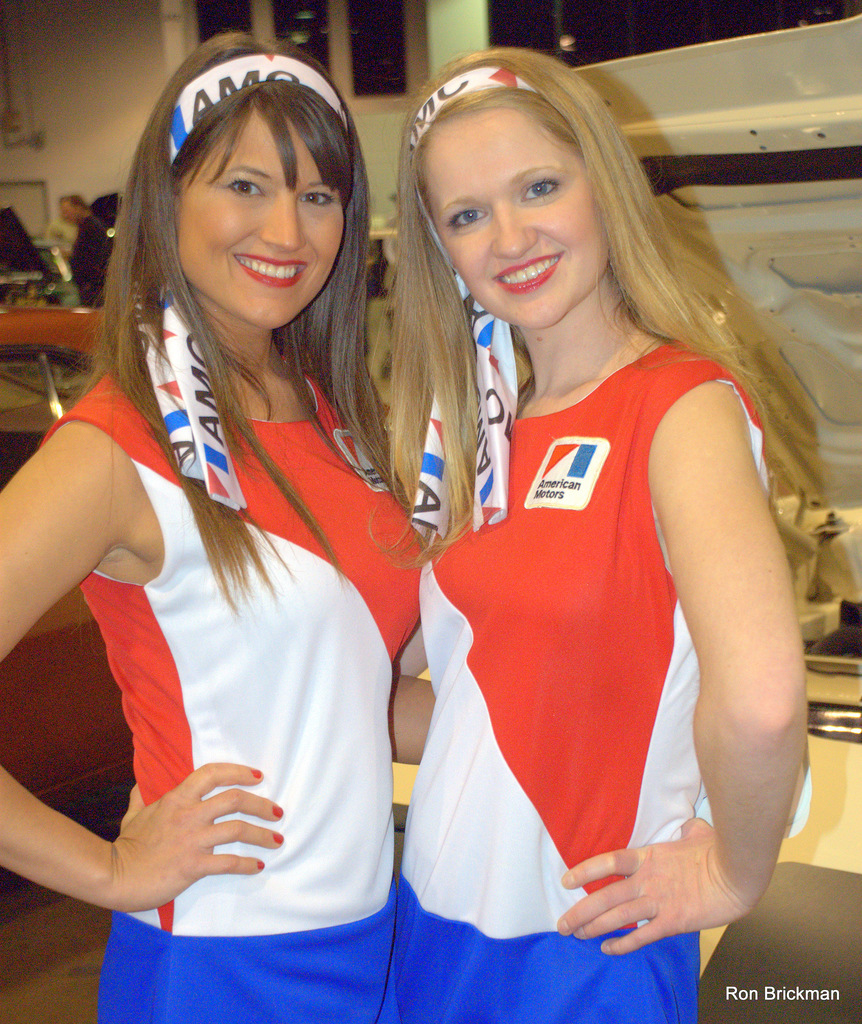Person: (60, 193, 114, 310)
